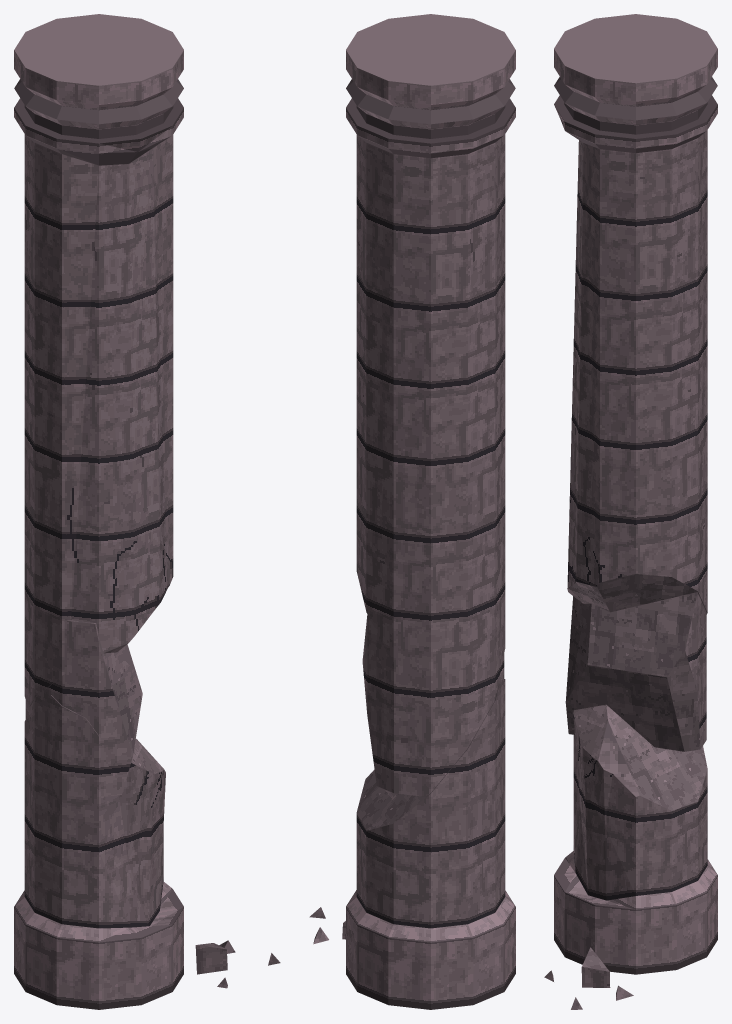
The model's file is saeule_z1_treffer1.glb.
The picture shows the model from 3 angles, left to right: view 1: azimuth 30°, elevation 25°; view 2: azimuth 150°, elevation 25°; view 3: azimuth 270°, elevation 25°; orthographic projection. The views are drawn at different scales.
Parts seen in each view (by area): view 1: saeule_z1_treffer1; view 2: saeule_z1_treffer1; view 3: saeule_z1_treffer1.
Part boxes in pixels (bbox=[...]): saeule_z1_treffer1: bbox=[14, 14, 280, 1009]; saeule_z1_treffer1: bbox=[309, 14, 515, 1009]; saeule_z1_treffer1: bbox=[544, 14, 717, 1009].
Size of the model in its own units: 1.51 by 6.01 by 1.06.
Materials: 1 (1 with a texture image).
